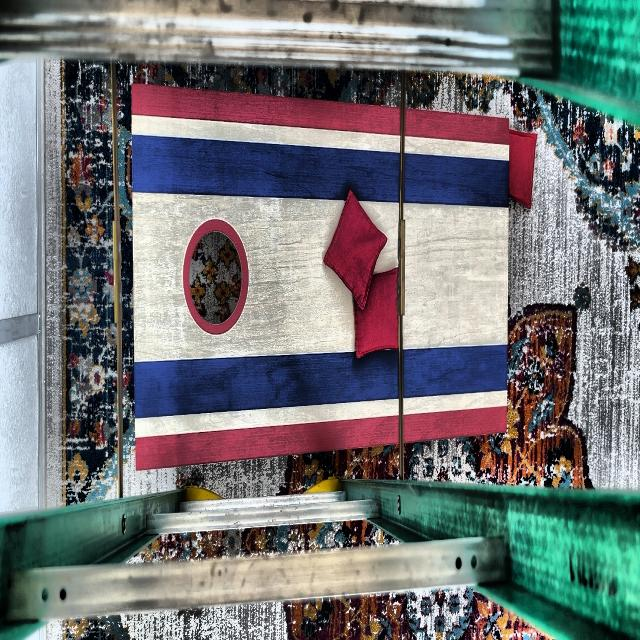board: (135, 119, 506, 431)
hole: (183, 217, 249, 335)
red-bean-bag: (324, 190, 388, 308), (355, 269, 398, 358), (509, 130, 537, 208)
